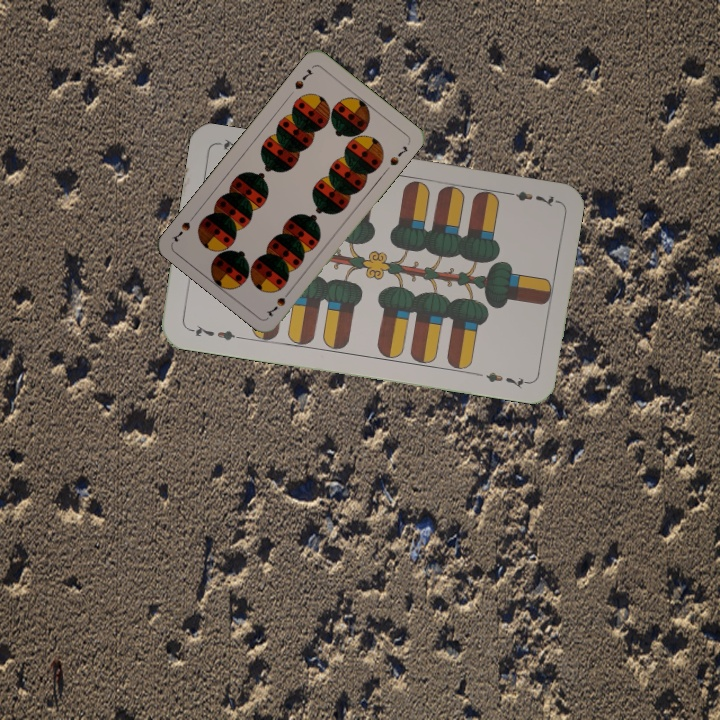E7: (185, 320, 244, 343), (500, 187, 559, 210)
S7: (262, 286, 294, 319), (291, 64, 315, 92)
